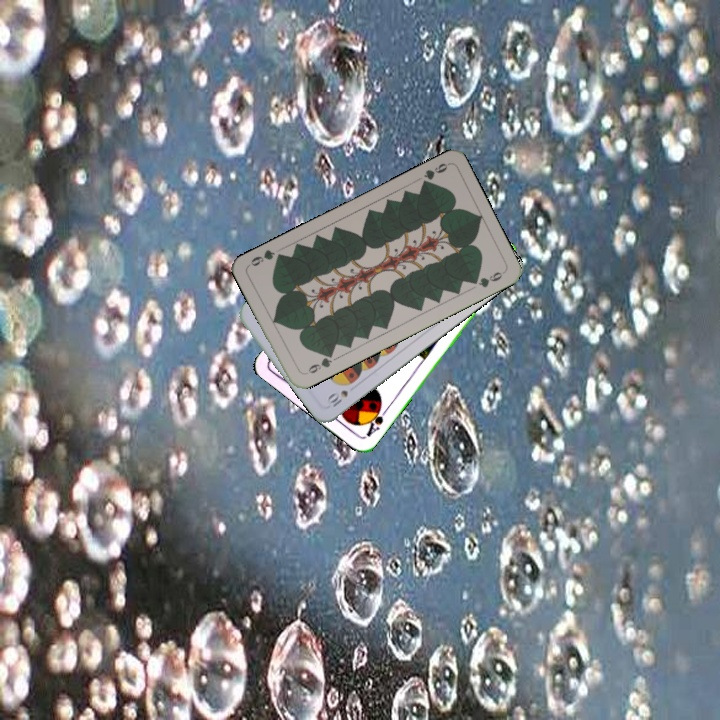G9: (417, 159, 451, 190), (300, 349, 335, 377)
S10: (322, 386, 351, 411)
SA: (362, 401, 391, 440)
